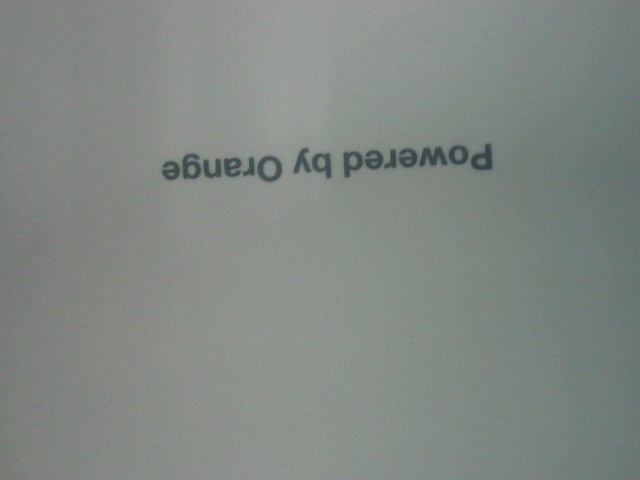AS_PowerByOrange: (151, 136, 508, 191)
